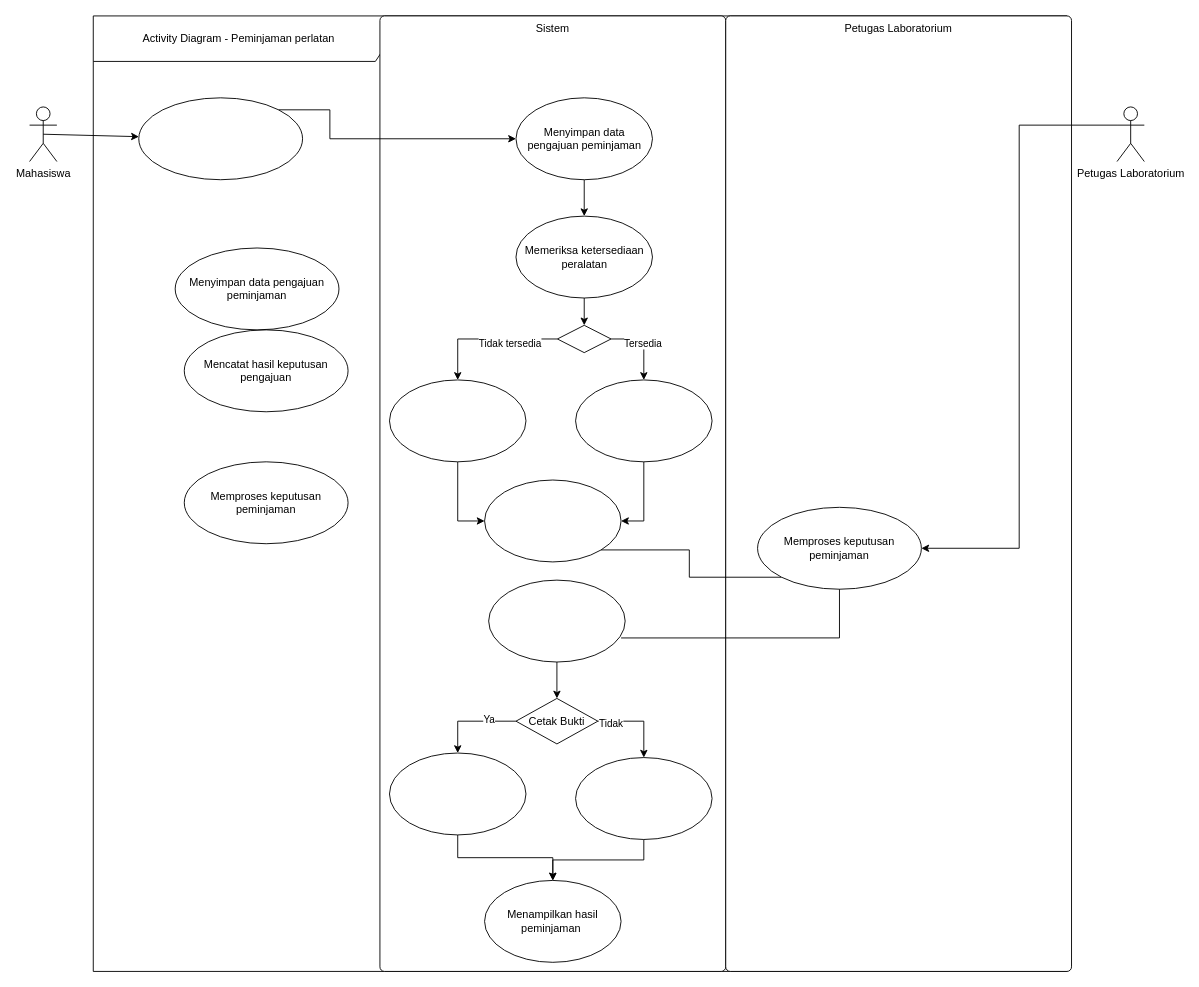
This 1199x987 diagram has some shape labels left out. Each missing label, with the box of its shape:
Menampilkan pesan peralatan tidak tersedia: (389, 379, 526, 462)
Menampilkan pesan peralatan yang tersedia: (575, 379, 712, 462)
Mencatat hasil keputusan peminjaman: (488, 579, 625, 662)
Mencetak bukti peminjaman: (389, 752, 526, 835)
Mengisi formulir pengajuan peminjaman: (138, 97, 303, 180)
Menunggu keputusan peminjaman: (484, 479, 621, 562)
Tidak Mencetak bukti peminjaman: (575, 757, 712, 839)
